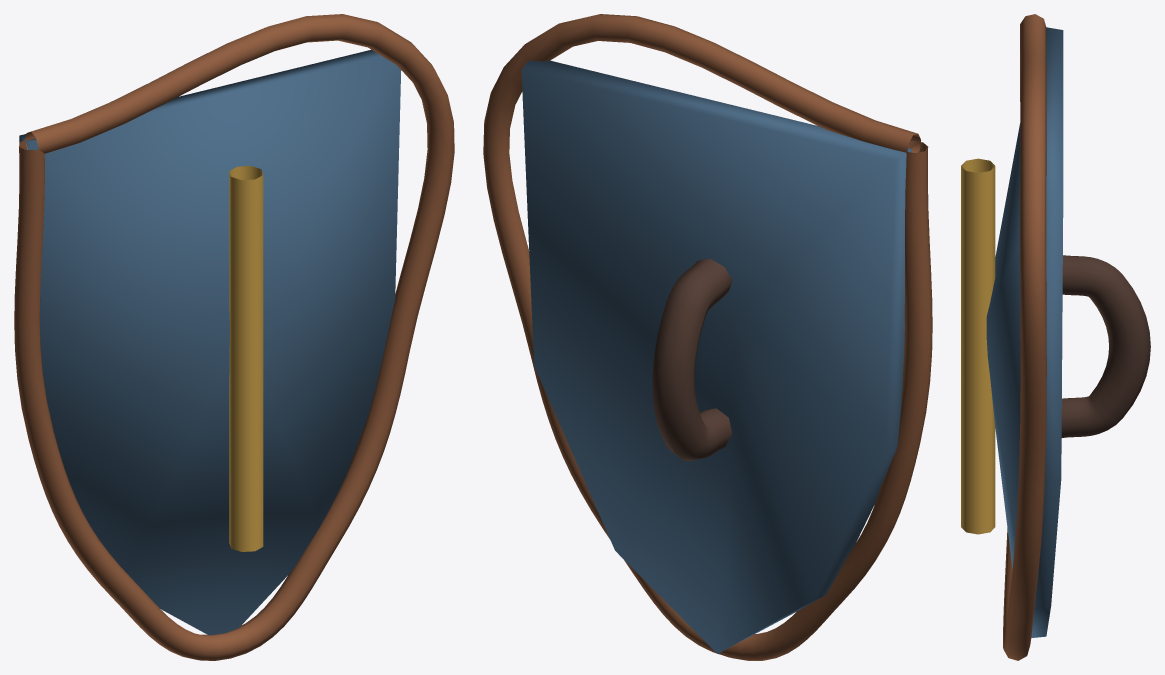
The model's file is shield.glb.
3 renders of one model, left to right at view 1: azimuth 30°, elevation 25°; view 2: azimuth 150°, elevation 25°; view 3: azimuth 270°, elevation 25°, orthographic. The views are drawn at different scales.
Visible parts, largest first — view 1: Painted wood shield, Leather rim, Gold stripe; view 2: Painted wood shield, Leather rim, Grip; view 3: Painted wood shield, Leather rim, Gold stripe, Grip.
Part boxes in pixels (x1,y1,x2,y2): Painted wood shield: [19, 49, 401, 635]; Leather rim: [14, 14, 454, 660]; Gold stripe: [229, 166, 263, 551]; Painted wood shield: [521, 60, 911, 653]; Leather rim: [483, 14, 932, 660]; Grip: [652, 258, 732, 461]; Painted wood shield: [986, 27, 1063, 637]; Leather rim: [1003, 14, 1046, 660]; Gold stripe: [961, 158, 995, 534]; Grip: [1061, 255, 1150, 437].
Bounding box in the file's own units: 0.517 × 0.6921 × 0.1999.
